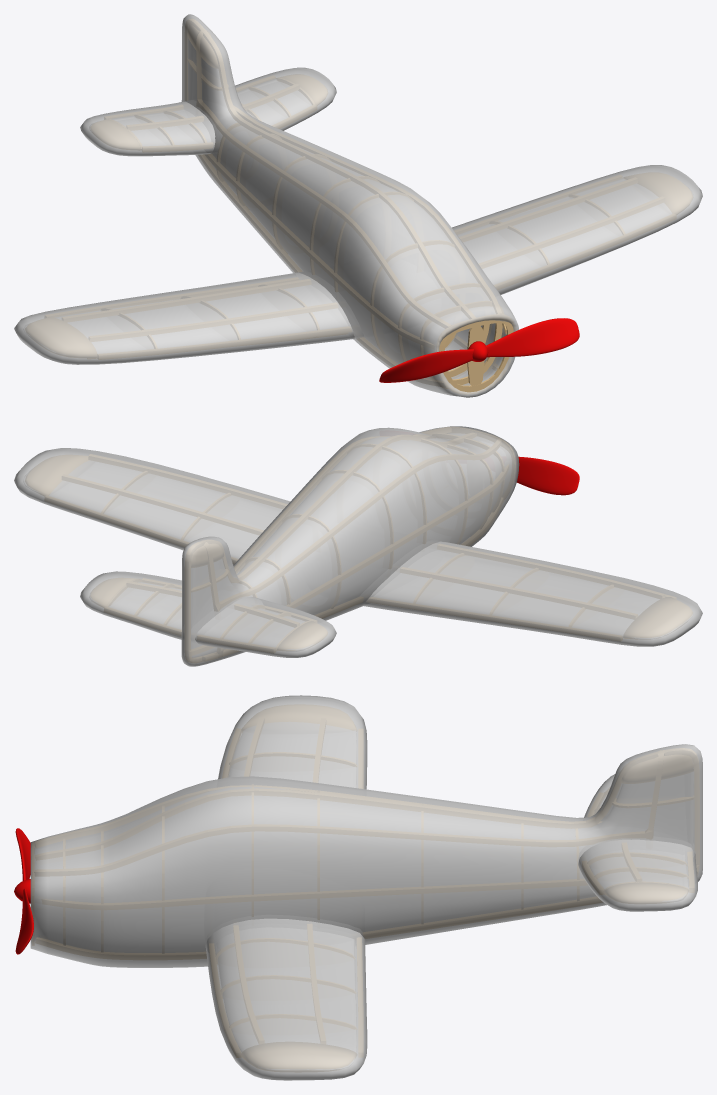
The picture shows the model from 3 angles, top to bottom: view 1: azimuth 30°, elevation 25°; view 2: azimuth 150°, elevation 25°; view 3: azimuth 270°, elevation 25°; orthographic projection. The views are drawn at different scales.
Parts seen in each view (by area): view 1: Plane, Plane.004, Plane.002, Plane.003, Plane.005; view 2: Plane, Plane.004, Plane.003, Plane.002, Plane.005; view 3: Plane, Plane.004, Plane.003, Plane.002, Plane.005.
Part boxes in pixels (left/top/right/bottom): Plane: left=14, top=14, right=702, bottom=397; Plane.004: left=45, top=19, right=675, bottom=386; Plane.002: left=101, top=59, right=624, bottom=393; Plane.003: left=25, top=25, right=692, bottom=357; Plane.005: left=379, top=318, right=579, bottom=382; Plane: left=14, top=426, right=702, bottom=666; Plane.004: left=45, top=427, right=675, bottom=662; Plane.003: left=25, top=455, right=692, bottom=650; Plane.002: left=101, top=427, right=613, bottom=649; Plane.005: left=517, top=456, right=579, bottom=495; Plane: left=30, top=695, right=702, bottom=1080; Plane.004: left=34, top=718, right=699, bottom=1057; Plane.003: left=241, top=705, right=693, bottom=1071; Plane.002: left=32, top=752, right=693, bottom=1028; Plane.005: left=15, top=828, right=33, bottom=954.
Bounding box in the file's own units: 682 × 183 × 532.
